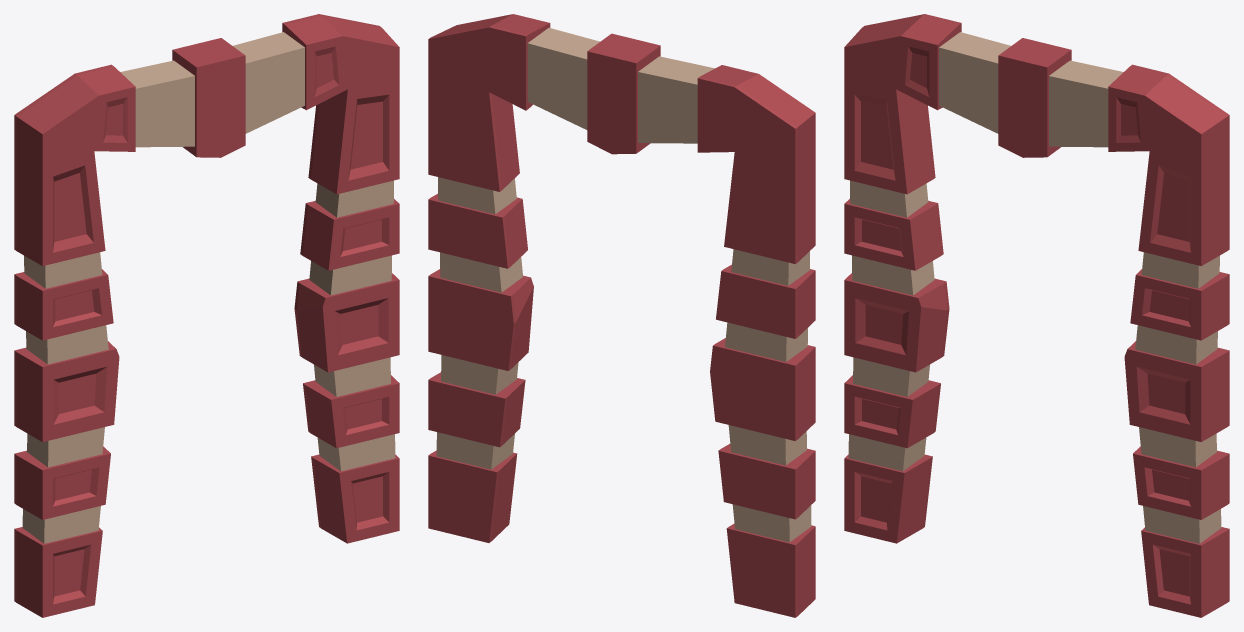
File: DoorFrame.fbx
3 renders of one model, left to right at view 1: azimuth 30°, elevation 25°; view 2: azimuth 150°, elevation 25°; view 3: azimuth 330°, elevation 25°, orthographic.
Visible parts, largest first — view 1: Cube.002; view 2: Cube.002; view 3: Cube.002.
Part boxes in pixels (x1,y1,x2,y2): Cube.002: [14, 14, 399, 617]; Cube.002: [428, 14, 815, 617]; Cube.002: [844, 14, 1229, 617].
Bounding box in the file's own units: 2996 × 4021 × 344.
